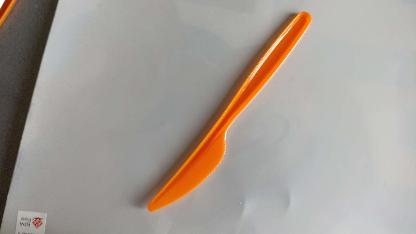Others: (147, 11, 313, 214)
